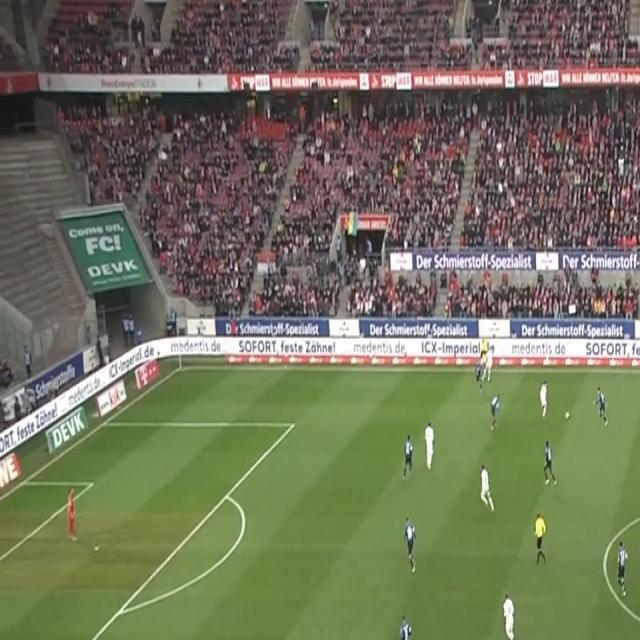ball: (564, 410, 571, 422)
